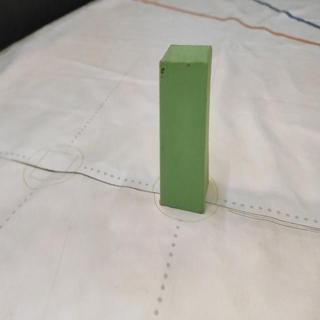greenbox: (153, 43, 213, 217)
